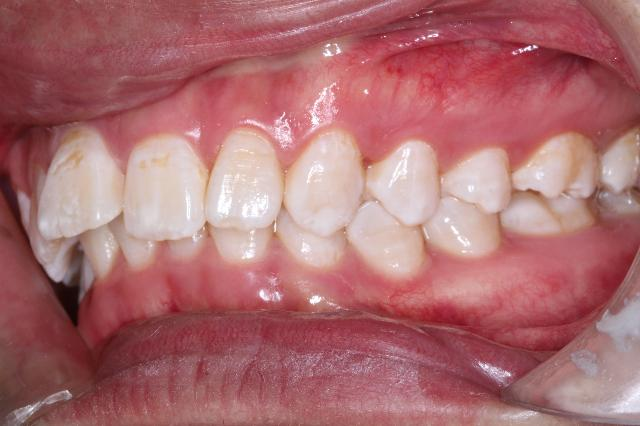canine class II 1/2: (274, 121, 426, 280)
molar class III 1/4: (492, 120, 610, 246)
